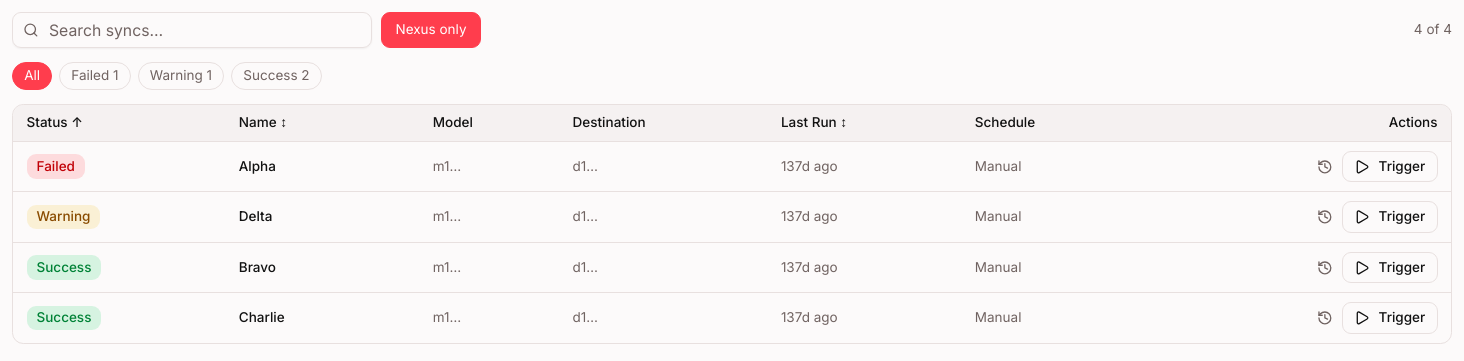
Test: SyncsTable status filter › filters to only failed rows when the Failed pill is clicked
This screenshot has width=1464, height=361.
Click the button "Failed 1" at (95, 76), box [59,62,131,90]
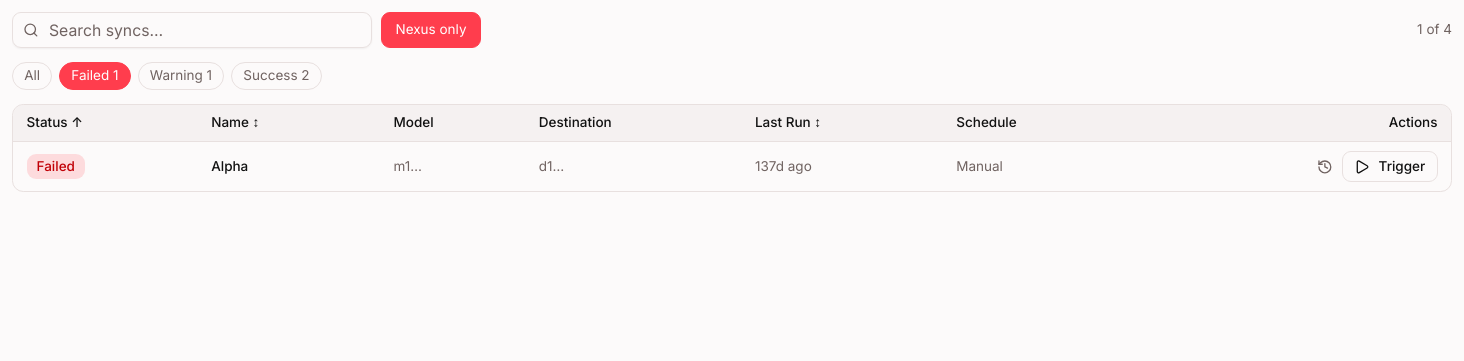
Now the text "Bravo" is gone
Now the text "Charlie" is gone
Now the text "Delta" is gone
